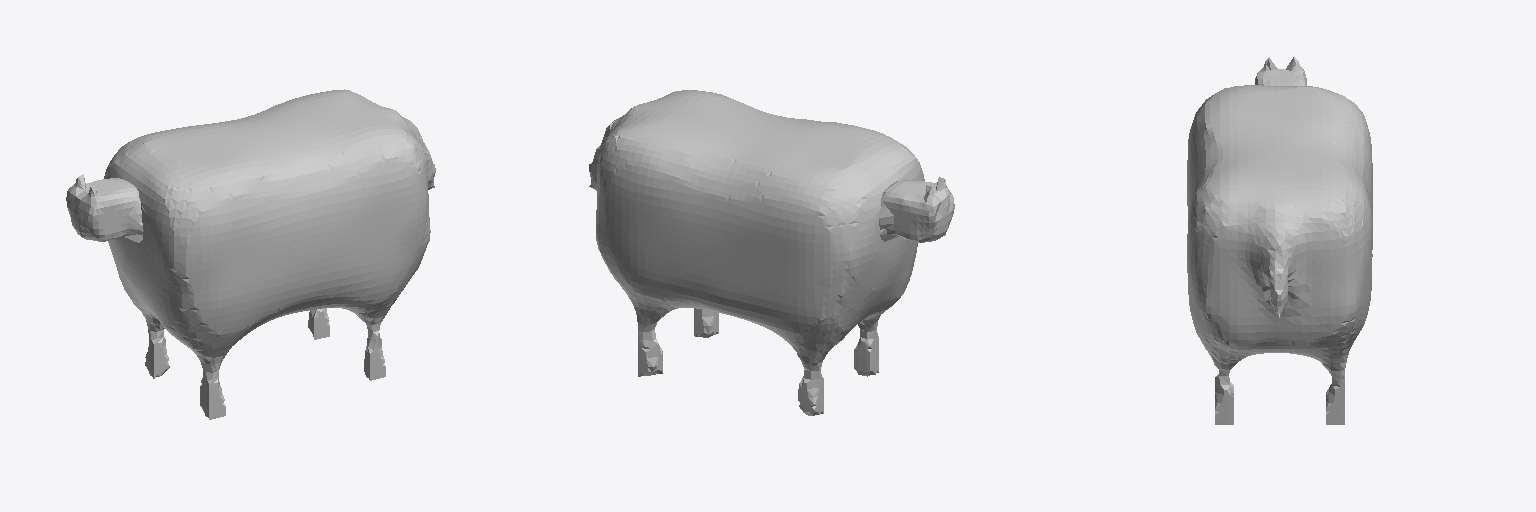
Rendered from vache alien.obj.
The picture shows the model from 3 angles: view 1: azimuth 30°, elevation 25°; view 2: azimuth 150°, elevation 25°; view 3: azimuth 270°, elevation 25°; orthographic projection.
Visible parts, largest first — view 1: Cube, Cube.001; view 2: Cube, Cube.001; view 3: Cube, Cube.001.
Boxes of the visible parts, <box> form: Cube: <box>104,89,435,419</box>; Cube.001: <box>66,174,143,242</box>; Cube: <box>589,90,924,415</box>; Cube.001: <box>879,177,954,242</box>; Cube: <box>1187,85,1372,424</box>; Cube.001: <box>1255,57,1306,85</box>.
Size of the model in its own units: 4.46 by 2.92 by 2.